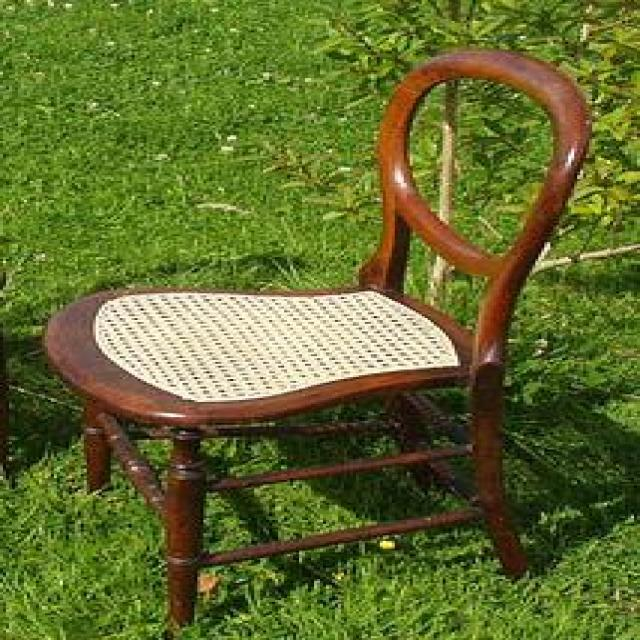chair: (41, 43, 588, 624)
